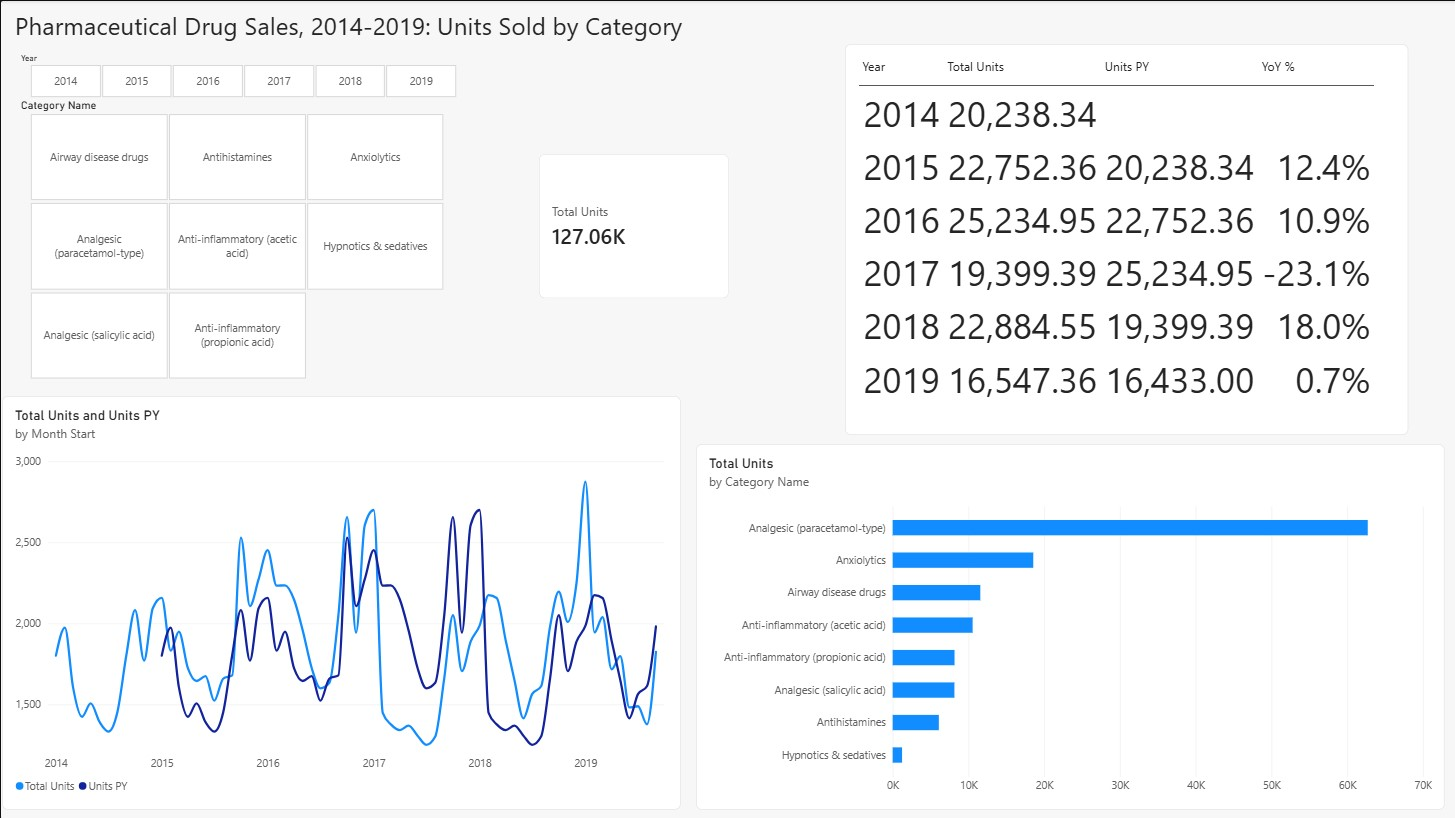

Layout of this report page (visuals, bound fields, positions):
{"tool":"powerbi","page":{"name":"Page 1","canvas":[1920,1080],"ordinal":0},"visuals":[{"type":"tableEx","fields":{"Values":["Calendar.Year","Sales.Total Units","Sales.Units PY","Sales.YoY %"]},"box":[640.1,169.9,970,190],"z":0},{"type":"lineChart","fields":{"Category":["Calendar.Month Start"],"Y":["Sales.Total Units","Sales.Units PY"]},"box":[2.6,521.6,894.3,545.3],"z":1},{"type":"clusteredBarChart","fields":{"Category":["Sales.Category Name"],"Y":["Sales.Total Units"]},"box":[916.7,717.8,986.5,349],"z":2},{"type":"slicer","fields":{"Values":["Calendar.Year"]},"box":[20,70,600,60],"z":3},{"type":"slicer","fields":{"Values":["Sales.Category Name"]},"box":[19.8,130.4,583.5,370.1],"z":4},{"type":"textbox","box":[20,10,1240,50],"z":5},{"type":"cardVisual","fields":{"Data":["Sales.Total Units"]},"box":[929.9,445.2,250,190],"z":6}]}

Visuals, with their boxes in screenshot pixels (x1, y1, x2, y2), scaled from the page's 1920x1080 canvas onto the 1455x818 screenshot:
tableEx - Calendar.Year x Sales.Total Units: x1=485 y1=129 x2=1220 y2=273
lineChart - Calendar.Month Start x Sales.Total Units: x1=2 y1=395 x2=680 y2=808
clusteredBarChart - Sales.Category Name x Sales.Total Units: x1=695 y1=544 x2=1442 y2=808
slicer - Calendar.Year: x1=15 y1=53 x2=470 y2=98
slicer - Sales.Category Name: x1=15 y1=99 x2=457 y2=379
textbox: x1=15 y1=8 x2=955 y2=45
cardVisual - Sales.Total Units: x1=705 y1=337 x2=894 y2=481
